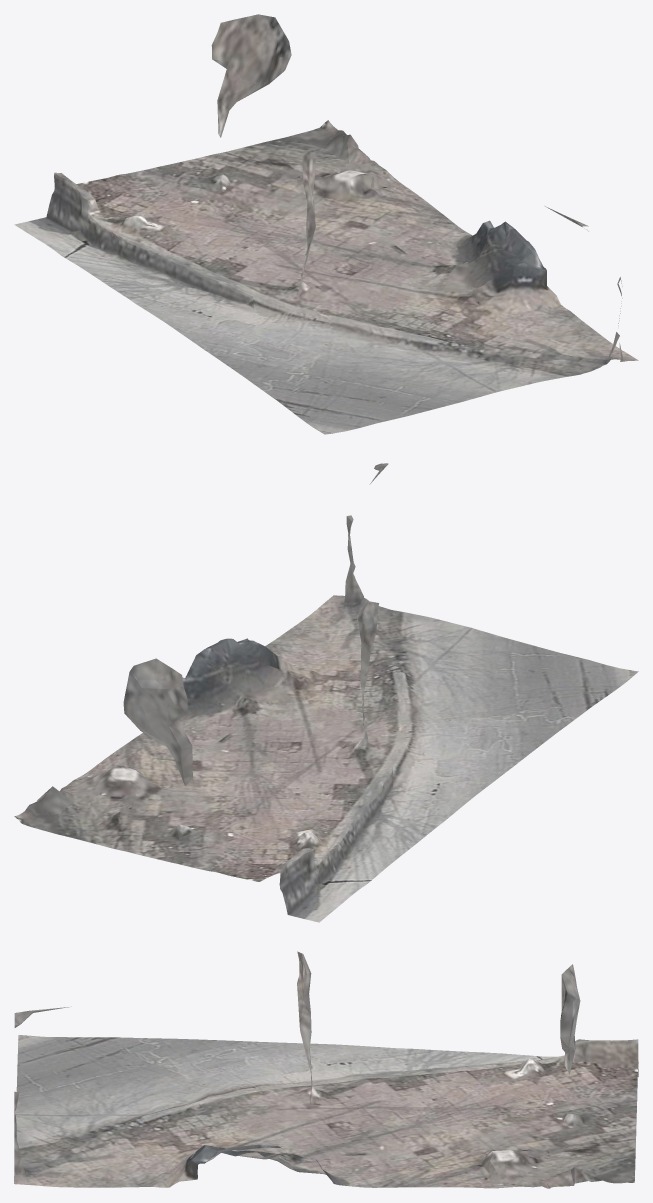
File: Tile_+003_+003_L21_0uuuu21.glb
The picture shows the model from 3 angles, top to bottom: view 1: azimuth 30°, elevation 25°; view 2: azimuth 150°, elevation 25°; view 3: azimuth 270°, elevation 25°; orthographic projection. The views are drawn at different scales.
Parts seen in each view (by area): view 1: rtc; view 2: rtc; view 3: rtc.
Part boxes in pixels (left/top/right/bottom): rtc: left=14, top=14, right=638, bottom=434; rtc: left=14, top=463, right=638, bottom=922; rtc: left=14, top=951, right=638, bottom=1188.
Bounding box in the file's own units: 11.98 × 6.8 × 20.82.
1 material, 1 textured.
